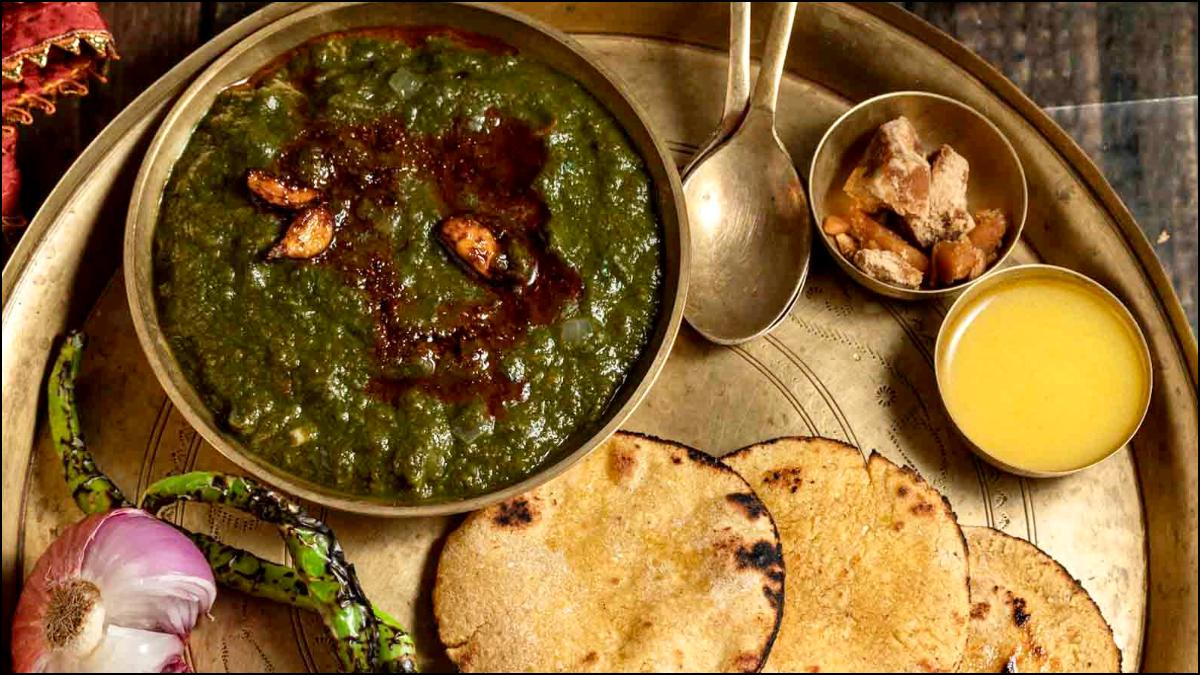saag: (155, 26, 664, 502)
